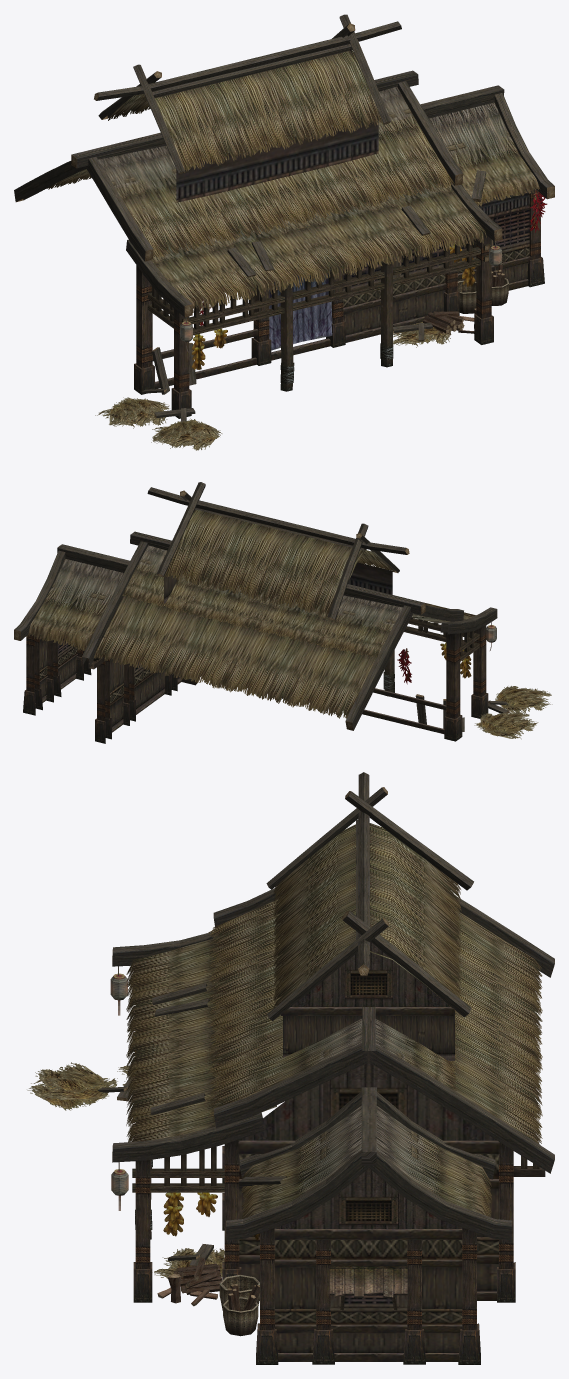
File: JJS_QY_MaoCaoWu01.FBX
The picture shows the model from 3 angles, top to bottom: view 1: azimuth 30°, elevation 25°; view 2: azimuth 150°, elevation 25°; view 3: azimuth 270°, elevation 25°; orthographic projection. The views are drawn at different scales.
Visible parts, largest first — view 1: JJS_QY_MaoCaoWu01, JJS_QY_MaoCaoWuDing01; view 2: JJS_QY_MaoCaoWuDing01, JJS_QY_MaoCaoWu01; view 3: JJS_QY_MaoCaoWu01, JJS_QY_MaoCaoWuDing01.
Part boxes in pixels (x1,y1,x2,y2): JJS_QY_MaoCaoWu01: (14,14,554,450); JJS_QY_MaoCaoWuDing01: (44,50,540,312); JJS_QY_MaoCaoWuDing01: (26,509,475,718); JJS_QY_MaoCaoWu01: (14,482,552,743); JJS_QY_MaoCaoWu01: (27,772,554,1364); JJS_QY_MaoCaoWuDing01: (126,823,542,1218).
Bounding box in the file's own units: 1378 × 709 × 982.
